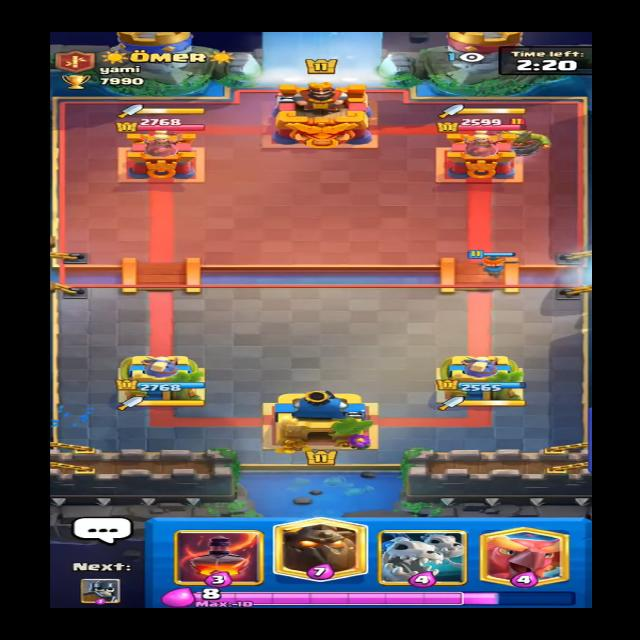goblin-demolisher: (486, 115, 558, 159)
